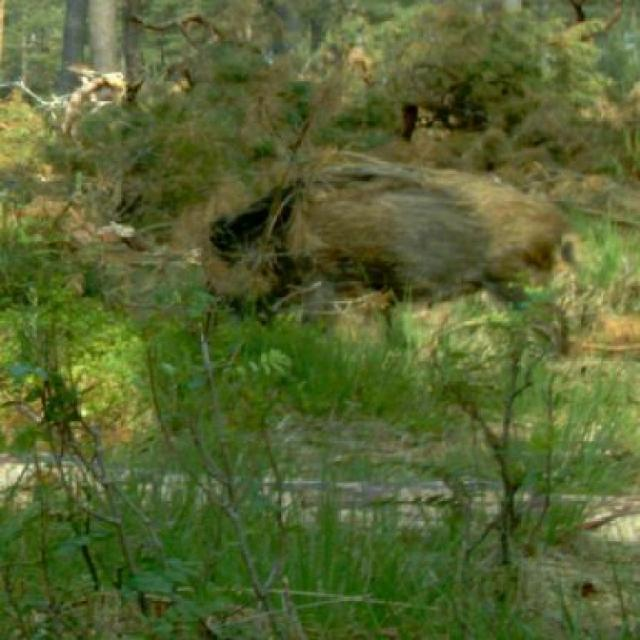pig: (194, 138, 611, 360)
